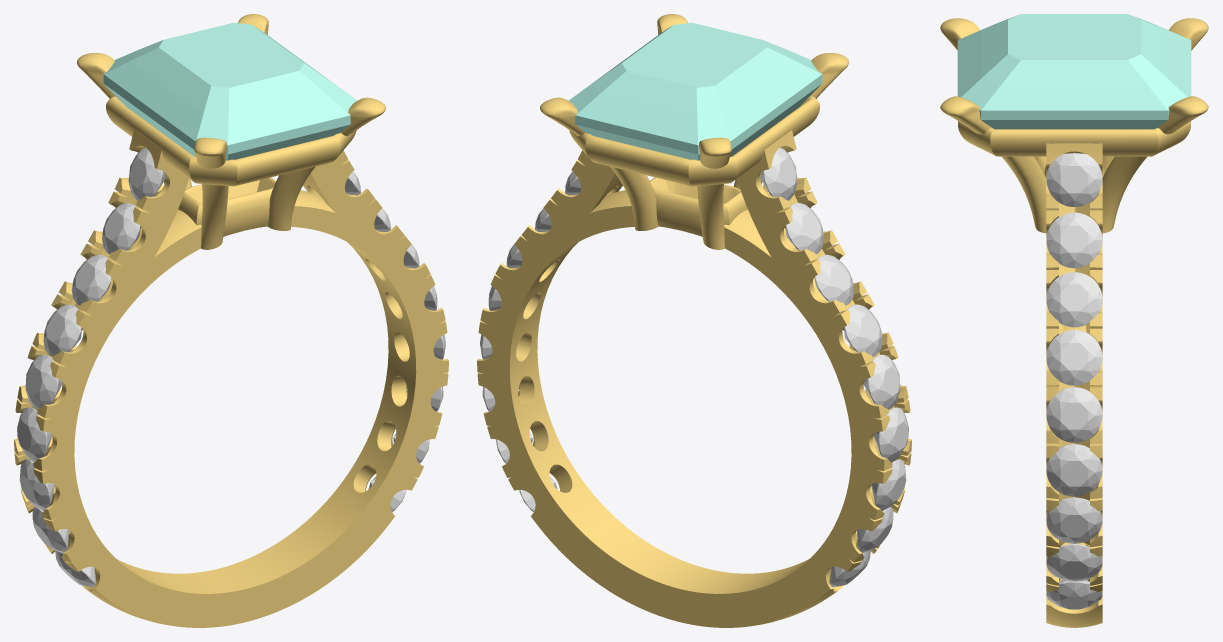
The model's file is StephanieYGeng.glb.
3 renders of one model, left to right at view 1: azimuth 30°, elevation 25°; view 2: azimuth 150°, elevation 25°; view 3: azimuth 270°, elevation 25°, orthographic.
Parts seen in each view (by area): view 1: Stephanie YG eng for 3d model, Stephanie aquamarine eng for 3d model, Stephanie dia eng for 3d model.012, Stephanie dia eng for 3d model.011, Stephanie dia eng for 3d model.010, Stephanie dia eng for 3d model.013, Stephanie dia eng for 3d model.009, Stephanie dia eng for 3d model.014, Stephanie dia eng for 3d model.015, Stephanie dia eng for 3d model.016, Stephanie dia eng for 3d model.017; view 2: Stephanie YG eng for 3d model, Stephanie aquamarine eng for 3d model, Stephanie dia eng for 3d model.012, Stephanie dia eng for 3d model.011, Stephanie dia eng for 3d model.010, Stephanie dia eng for 3d model.013, Stephanie dia eng for 3d model.009, Stephanie dia eng for 3d model.014, Stephanie dia eng for 3d model.015, Stephanie dia eng for 3d model.016, Stephanie dia eng for 3d model.017; view 3: Stephanie aquamarine eng for 3d model, Stephanie YG eng for 3d model, Stephanie dia eng for 3d model.003, Stephanie dia eng for 3d model.004, Stephanie dia eng for 3d model.001, Stephanie dia eng for 3d model, Stephanie dia eng for 3d model.002, Stephanie dia eng for 3d model.005, Stephanie dia eng for 3d model.006, Stephanie dia eng for 3d model.007, Stephanie dia eng for 3d model.008.
Part boxes in pixels (x1=…): Stephanie YG eng for 3d model: x1=14, y1=14, x2=448, y2=627; Stephanie aquamarine eng for 3d model: x1=103, y1=22, x2=356, y2=160; Stephanie dia eng for 3d model.012: x1=43, y1=304, x2=81, y2=356; Stephanie dia eng for 3d model.011: x1=71, y1=254, x2=111, y2=305; Stephanie dia eng for 3d model.010: x1=102, y1=203, x2=140, y2=254; Stephanie dia eng for 3d model.013: x1=25, y1=354, x2=62, y2=409; Stephanie dia eng for 3d model.009: x1=128, y1=148, x2=165, y2=200; Stephanie dia eng for 3d model.014: x1=17, y1=407, x2=52, y2=461; Stephanie dia eng for 3d model.015: x1=19, y1=459, x2=54, y2=510; Stephanie dia eng for 3d model.016: x1=32, y1=507, x2=68, y2=553; Stephanie dia eng for 3d model.017: x1=55, y1=550, x2=96, y2=586; Stephanie YG eng for 3d model: x1=477, y1=14, x2=911, y2=627; Stephanie aquamarine eng for 3d model: x1=569, y1=22, x2=822, y2=160; Stephanie dia eng for 3d model.012: x1=844, y1=304, x2=882, y2=356; Stephanie dia eng for 3d model.011: x1=814, y1=254, x2=854, y2=305; Stephanie dia eng for 3d model.010: x1=785, y1=203, x2=823, y2=254; Stephanie dia eng for 3d model.013: x1=863, y1=354, x2=900, y2=409; Stephanie dia eng for 3d model.009: x1=760, y1=148, x2=797, y2=200; Stephanie dia eng for 3d model.014: x1=873, y1=407, x2=908, y2=461; Stephanie dia eng for 3d model.015: x1=871, y1=459, x2=906, y2=510; Stephanie dia eng for 3d model.016: x1=857, y1=507, x2=893, y2=553; Stephanie dia eng for 3d model.017: x1=829, y1=550, x2=870, y2=586; Stephanie aquamarine eng for 3d model: x1=957, y1=14, x2=1191, y2=129; Stephanie YG eng for 3d model: x1=940, y1=18, x2=1208, y2=627; Stephanie dia eng for 3d model.003: x1=1046, y1=330, x2=1102, y2=385; Stephanie dia eng for 3d model.004: x1=1046, y1=387, x2=1102, y2=442; Stephanie dia eng for 3d model.001: x1=1046, y1=212, x2=1102, y2=268; Stephanie dia eng for 3d model: x1=1046, y1=153, x2=1102, y2=206; Stephanie dia eng for 3d model.002: x1=1046, y1=272, x2=1102, y2=327; Stephanie dia eng for 3d model.005: x1=1046, y1=444, x2=1102, y2=496; Stephanie dia eng for 3d model.006: x1=1046, y1=497, x2=1102, y2=543; Stephanie dia eng for 3d model.007: x1=1046, y1=544, x2=1102, y2=581; Stephanie dia eng for 3d model.008: x1=1046, y1=580, x2=1102, y2=609.
Size of the model in its own units: 20.81 by 26.87 by 11.49.
